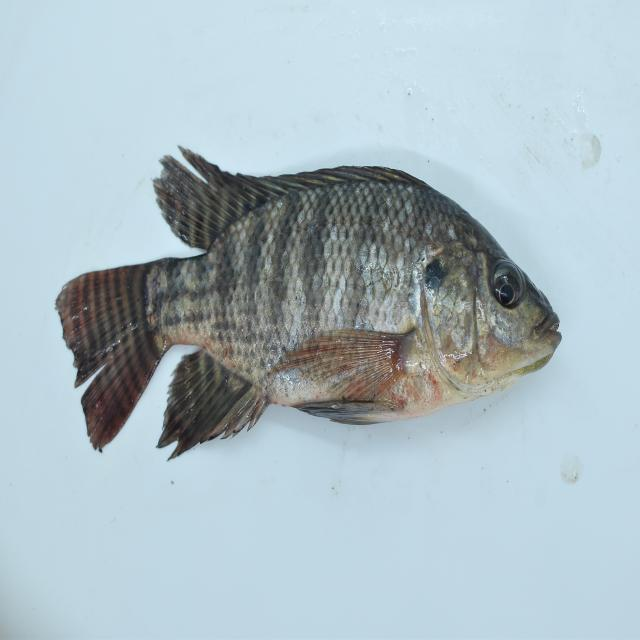Columnaris Disease: (42, 132, 596, 471)
